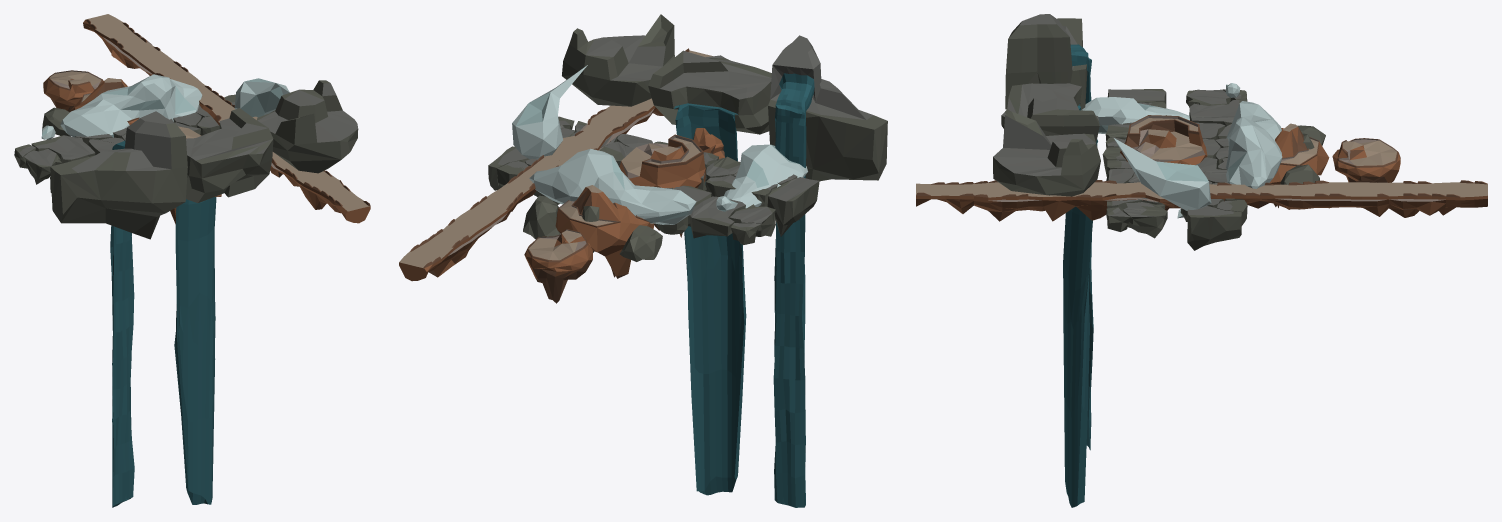
The model's file is PullPiedra01.fbx.
3 renders of one model, left to right at view 1: azimuth 30°, elevation 25°; view 2: azimuth 150°, elevation 25°; view 3: azimuth 270°, elevation 25°, orthographic. The views are drawn at different scales.
Visible parts, largest first — view 1: Cubo.016_Cubo.018, Cubo.016_Cubo.017, Cubo.018, Nube02, EscenarioTierra02, EscenarioTieera01, TierraFlotante03, Nube03, Cubo.016_Cubo.013, Cubo.016_Cubo.014, TierraFlotante02, RocaParticula03; view 2: Cubo.016_Cubo.017, Cubo.016_Cubo.018, Cubo.018, Nube02, EscenarioTierra02, TierraFlotante02, TierraFlotante01, TierraFlotante03, Nube03, EscenarioTieera01, Nube01, Cubo.001 (+7 smaller); view 3: Cubo.016_Cubo.017, EscenarioTierra02, Cubo.018, Cubo.016_Cubo.018, EscenarioTieera01, Nube02, TierraFlotante01, Nube03, TierraFlotante03, Cubo.016_Cubo.000, TierraFlotante02, Nube01 (+4 smaller).
Part boxes in pixels (x1,y1,x2,y2): Cubo.016_Cubo.018: (50, 111, 187, 507); Cubo.016_Cubo.017: (174, 108, 273, 504); Cubo.018: (257, 80, 358, 173); Nube02: (60, 74, 202, 137); EscenarioTierra02: (83, 14, 235, 118); EscenarioTieera01: (214, 111, 370, 223); TierraFlotante03: (43, 70, 103, 112); Nube03: (234, 78, 289, 117); Cubo.016_Cubo.013: (31, 135, 95, 163); Cubo.016_Cubo.014: (24, 148, 61, 184); TierraFlotante02: (70, 78, 139, 124); RocaParticula03: (42, 107, 70, 136); Cubo.016_Cubo.017: (648, 50, 771, 495); Cubo.016_Cubo.018: (768, 35, 887, 507); Cubo.018: (562, 14, 674, 106); Nube02: (529, 148, 696, 224); EscenarioTierra02: (399, 155, 565, 281); TierraFlotante02: (555, 185, 653, 278); TierraFlotante01: (619, 134, 705, 237); TierraFlotante03: (524, 229, 592, 303); Nube03: (512, 65, 587, 159); EscenarioTieera01: (544, 48, 712, 161); Nube01: (724, 144, 807, 208); Cubo.001: (767, 177, 819, 236); Cubo.016_Cubo.017: (1001, 83, 1099, 507); EscenarioTierra02: (1209, 180, 1487, 217); Cubo.018: (993, 111, 1100, 196); Cubo.016_Cubo.018: (1005, 14, 1093, 450); EscenarioTieera01: (916, 180, 1180, 221); Nube02: (1226, 101, 1282, 188); TierraFlotante01: (1120, 115, 1207, 210); Nube03: (1114, 138, 1211, 210); TierraFlotante03: (1332, 138, 1400, 182); Cubo.016_Cubo.000: (1187, 206, 1241, 250); TierraFlotante02: (1269, 123, 1329, 207); Nube01: (1081, 97, 1189, 133).
Bounding box in the file's own units: 1023 × 1418 × 1630.
